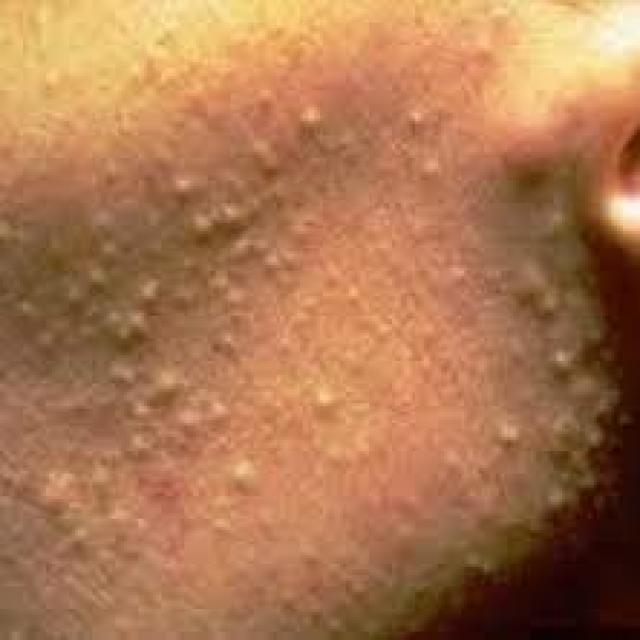dark spot: (92, 262, 278, 355), (124, 355, 234, 446), (20, 454, 136, 523), (228, 440, 282, 500), (297, 380, 351, 432)
